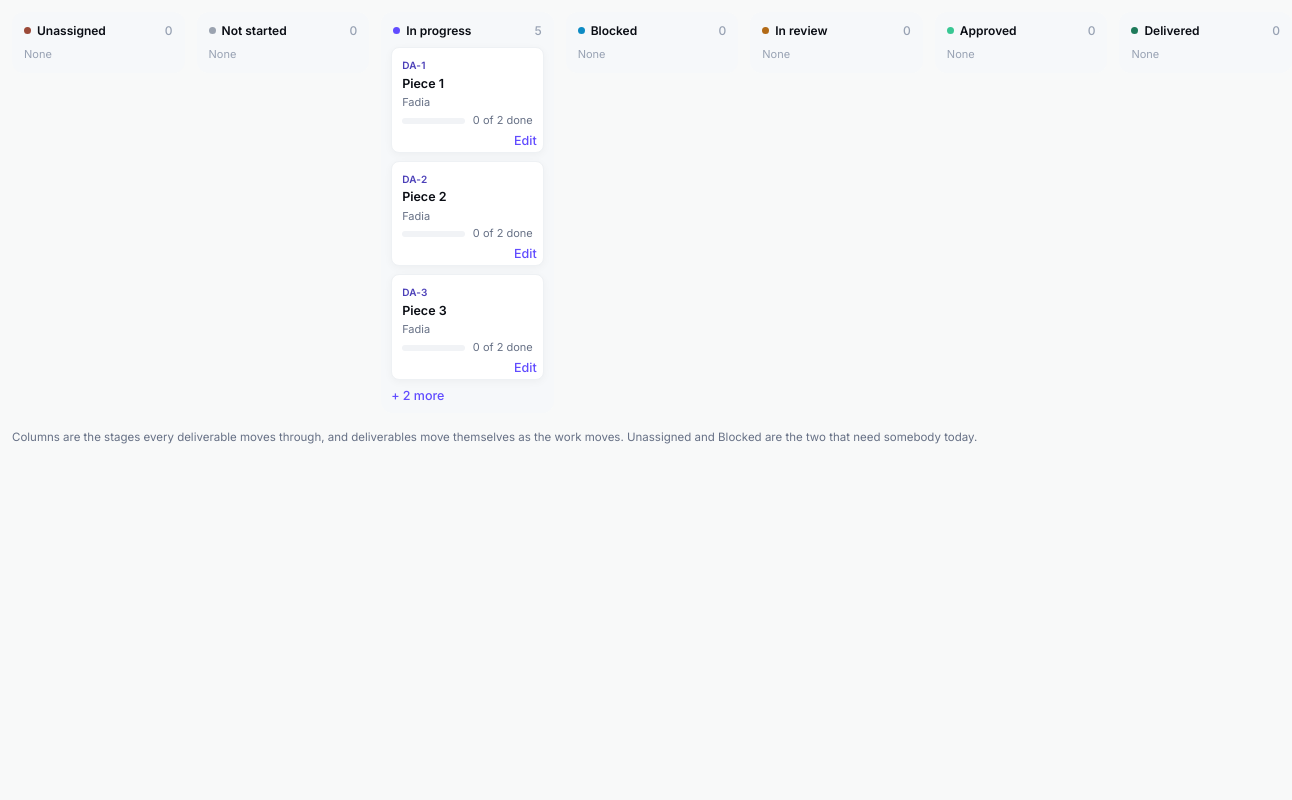
it: CampaignBoard — CG-05 (I57.8) › shows the first three cards of a column and "+ N more" shows the rest
Expected: the number of list items is 3, [391, 47, 544, 153]; [391, 161, 544, 266]; [391, 274, 544, 380]
Click the button with test id "board-more-inProgress": (418, 395) [391, 388, 444, 403]
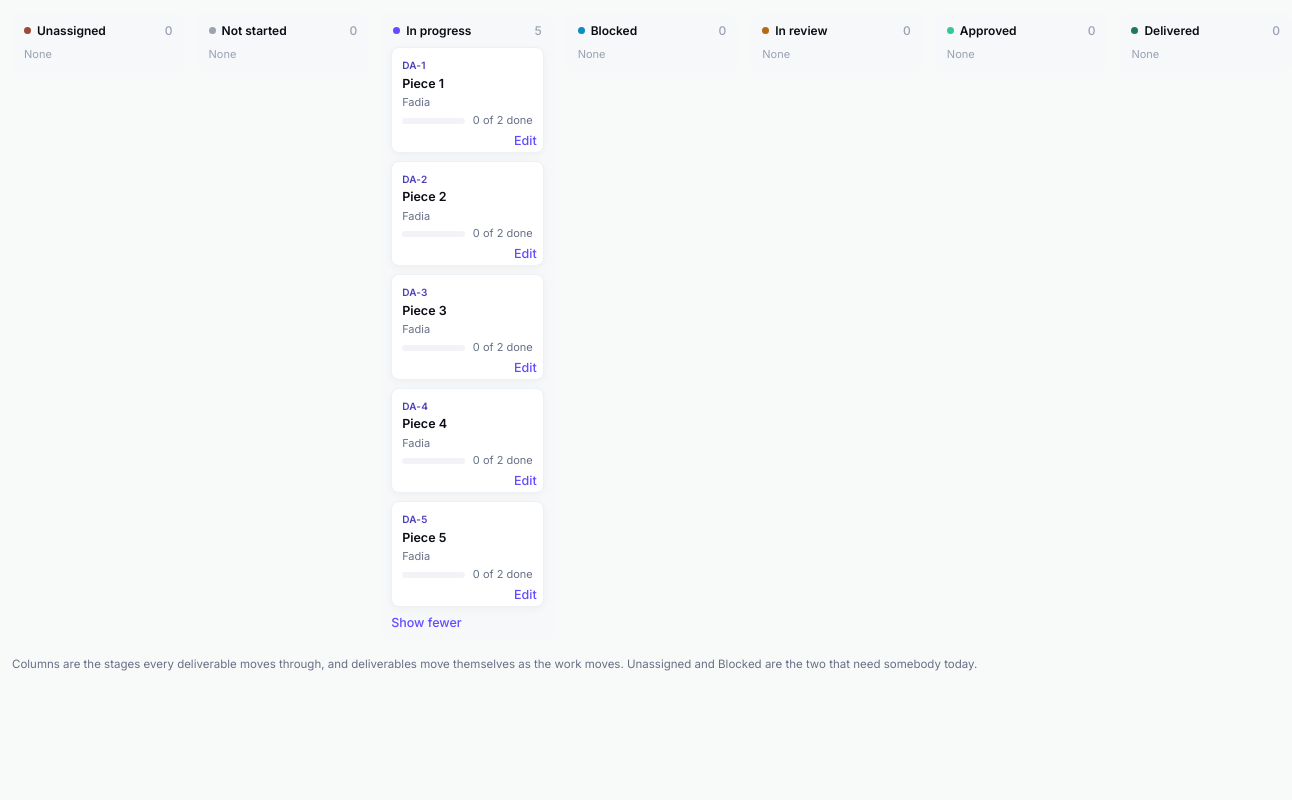
Expected: the number of list items is 5, [391, 47, 544, 153]; [391, 161, 544, 266]; [391, 274, 544, 380]; [391, 388, 544, 493]; [391, 501, 544, 607]
Expected: the button with test id "board-more-inProgress" reads "Show fewer"
Click the button with test id "board-more-inProgress": (426, 622) [391, 615, 462, 630]
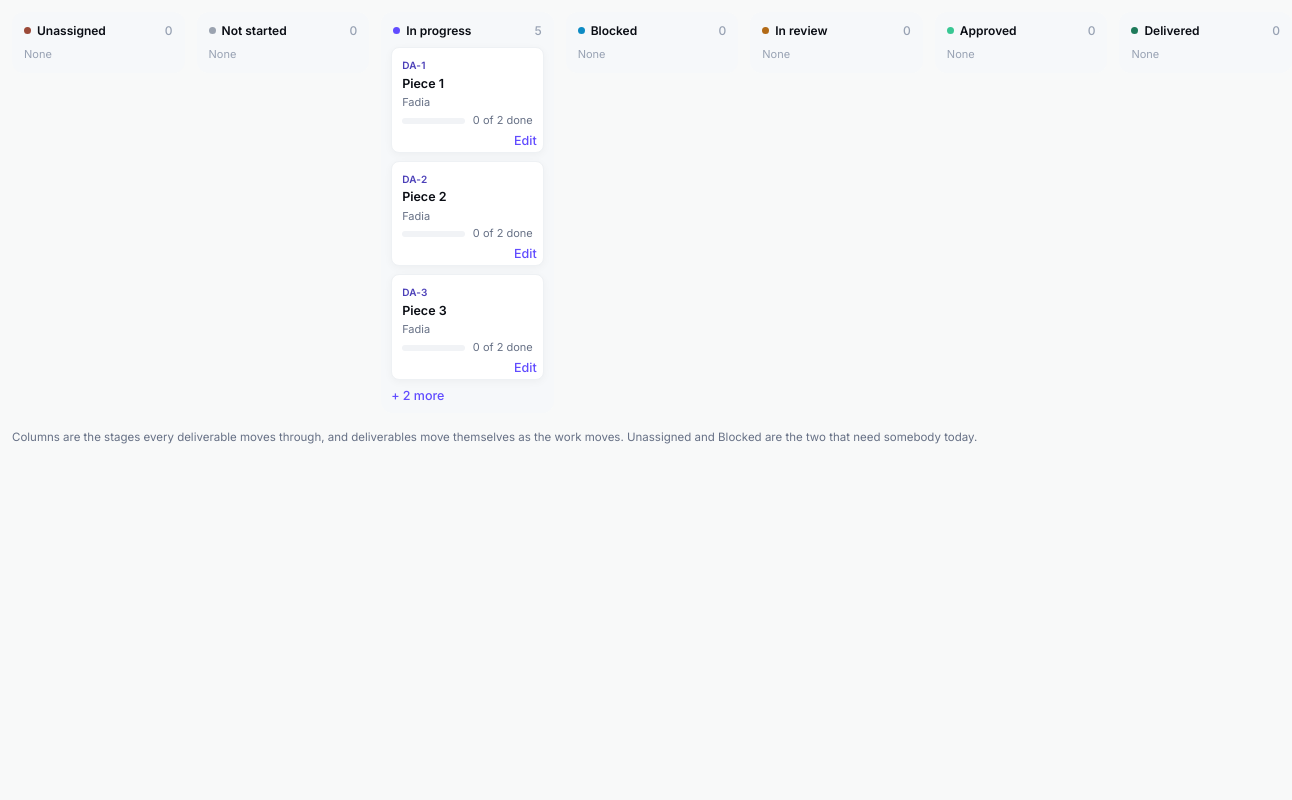
Expected: the number of list items is 3, [391, 47, 544, 153]; [391, 161, 544, 266]; [391, 274, 544, 380]
